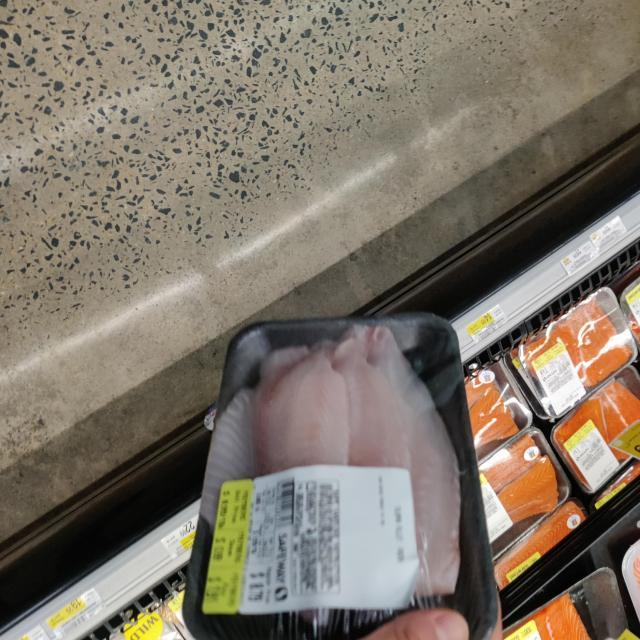Fish: (189, 305, 514, 639)
